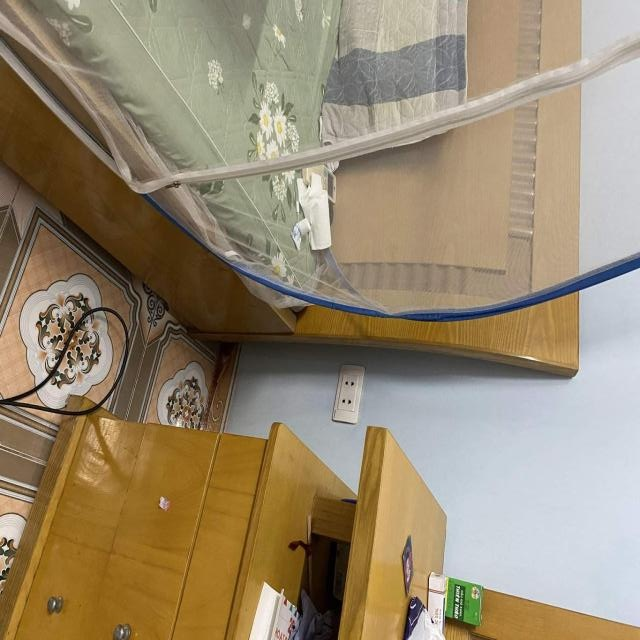outlet: (332, 364, 366, 424)
